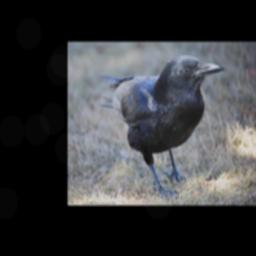Crow: (98, 54, 224, 197)
